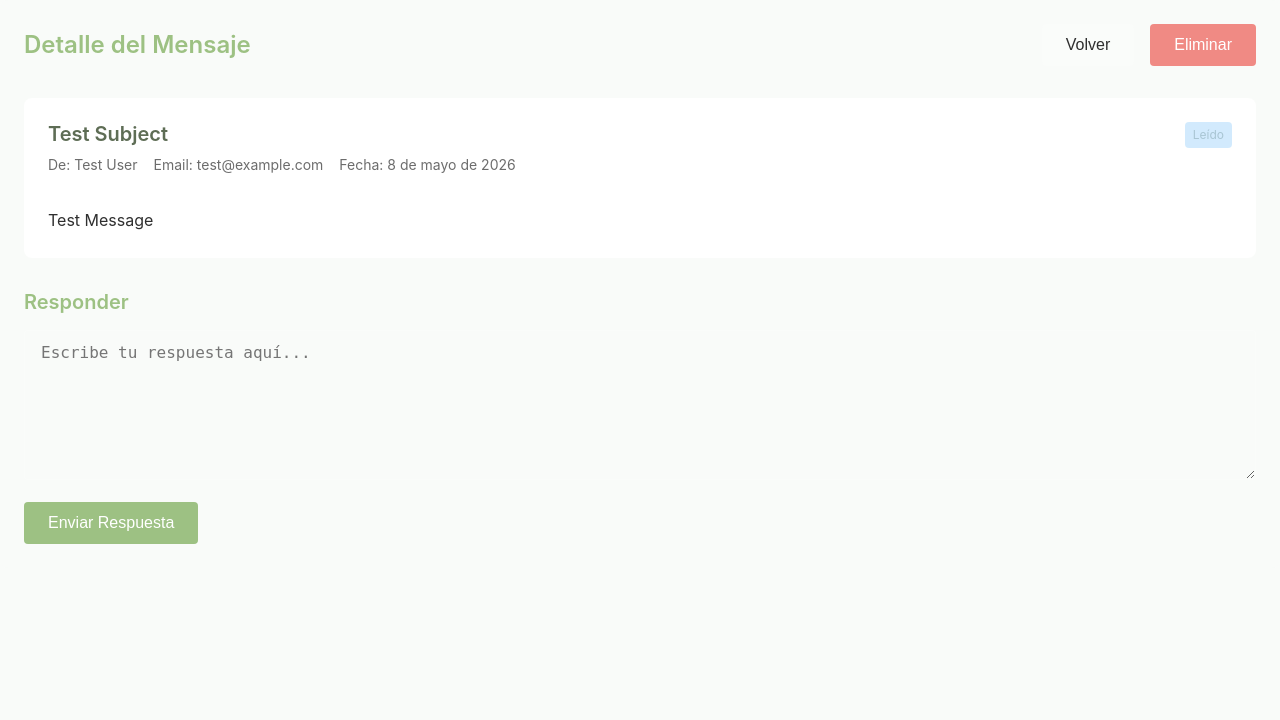
Test: MessageDetail › muestra error cuando la respuesta está vacía
This screenshot has width=1280, height=720.
Expected: the heading "Responder" is shown, [24,290,129,314]
# No escribimos nada en el textarea
Click the button "Enviar Respuesta" at (111, 523), box [24,502,198,544]
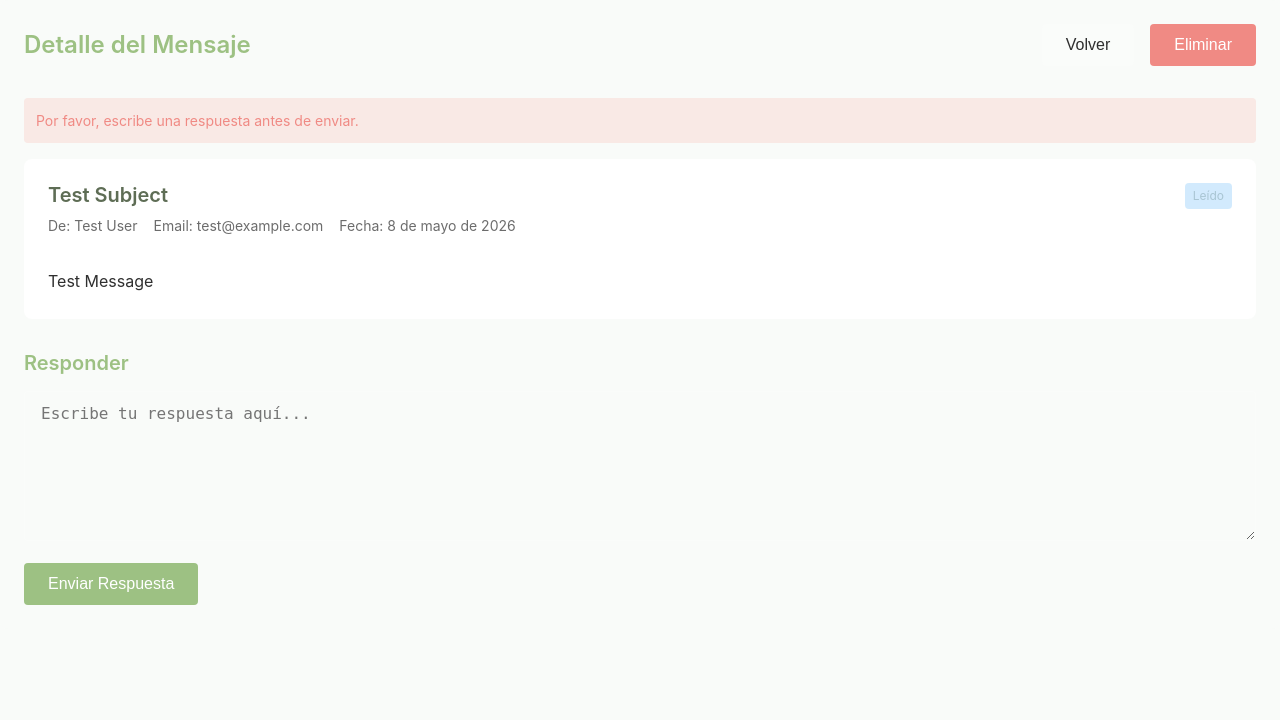
Now the text "Por favor, escribe una respuesta antes de enviar." is shown, box [24,98,1256,143]
